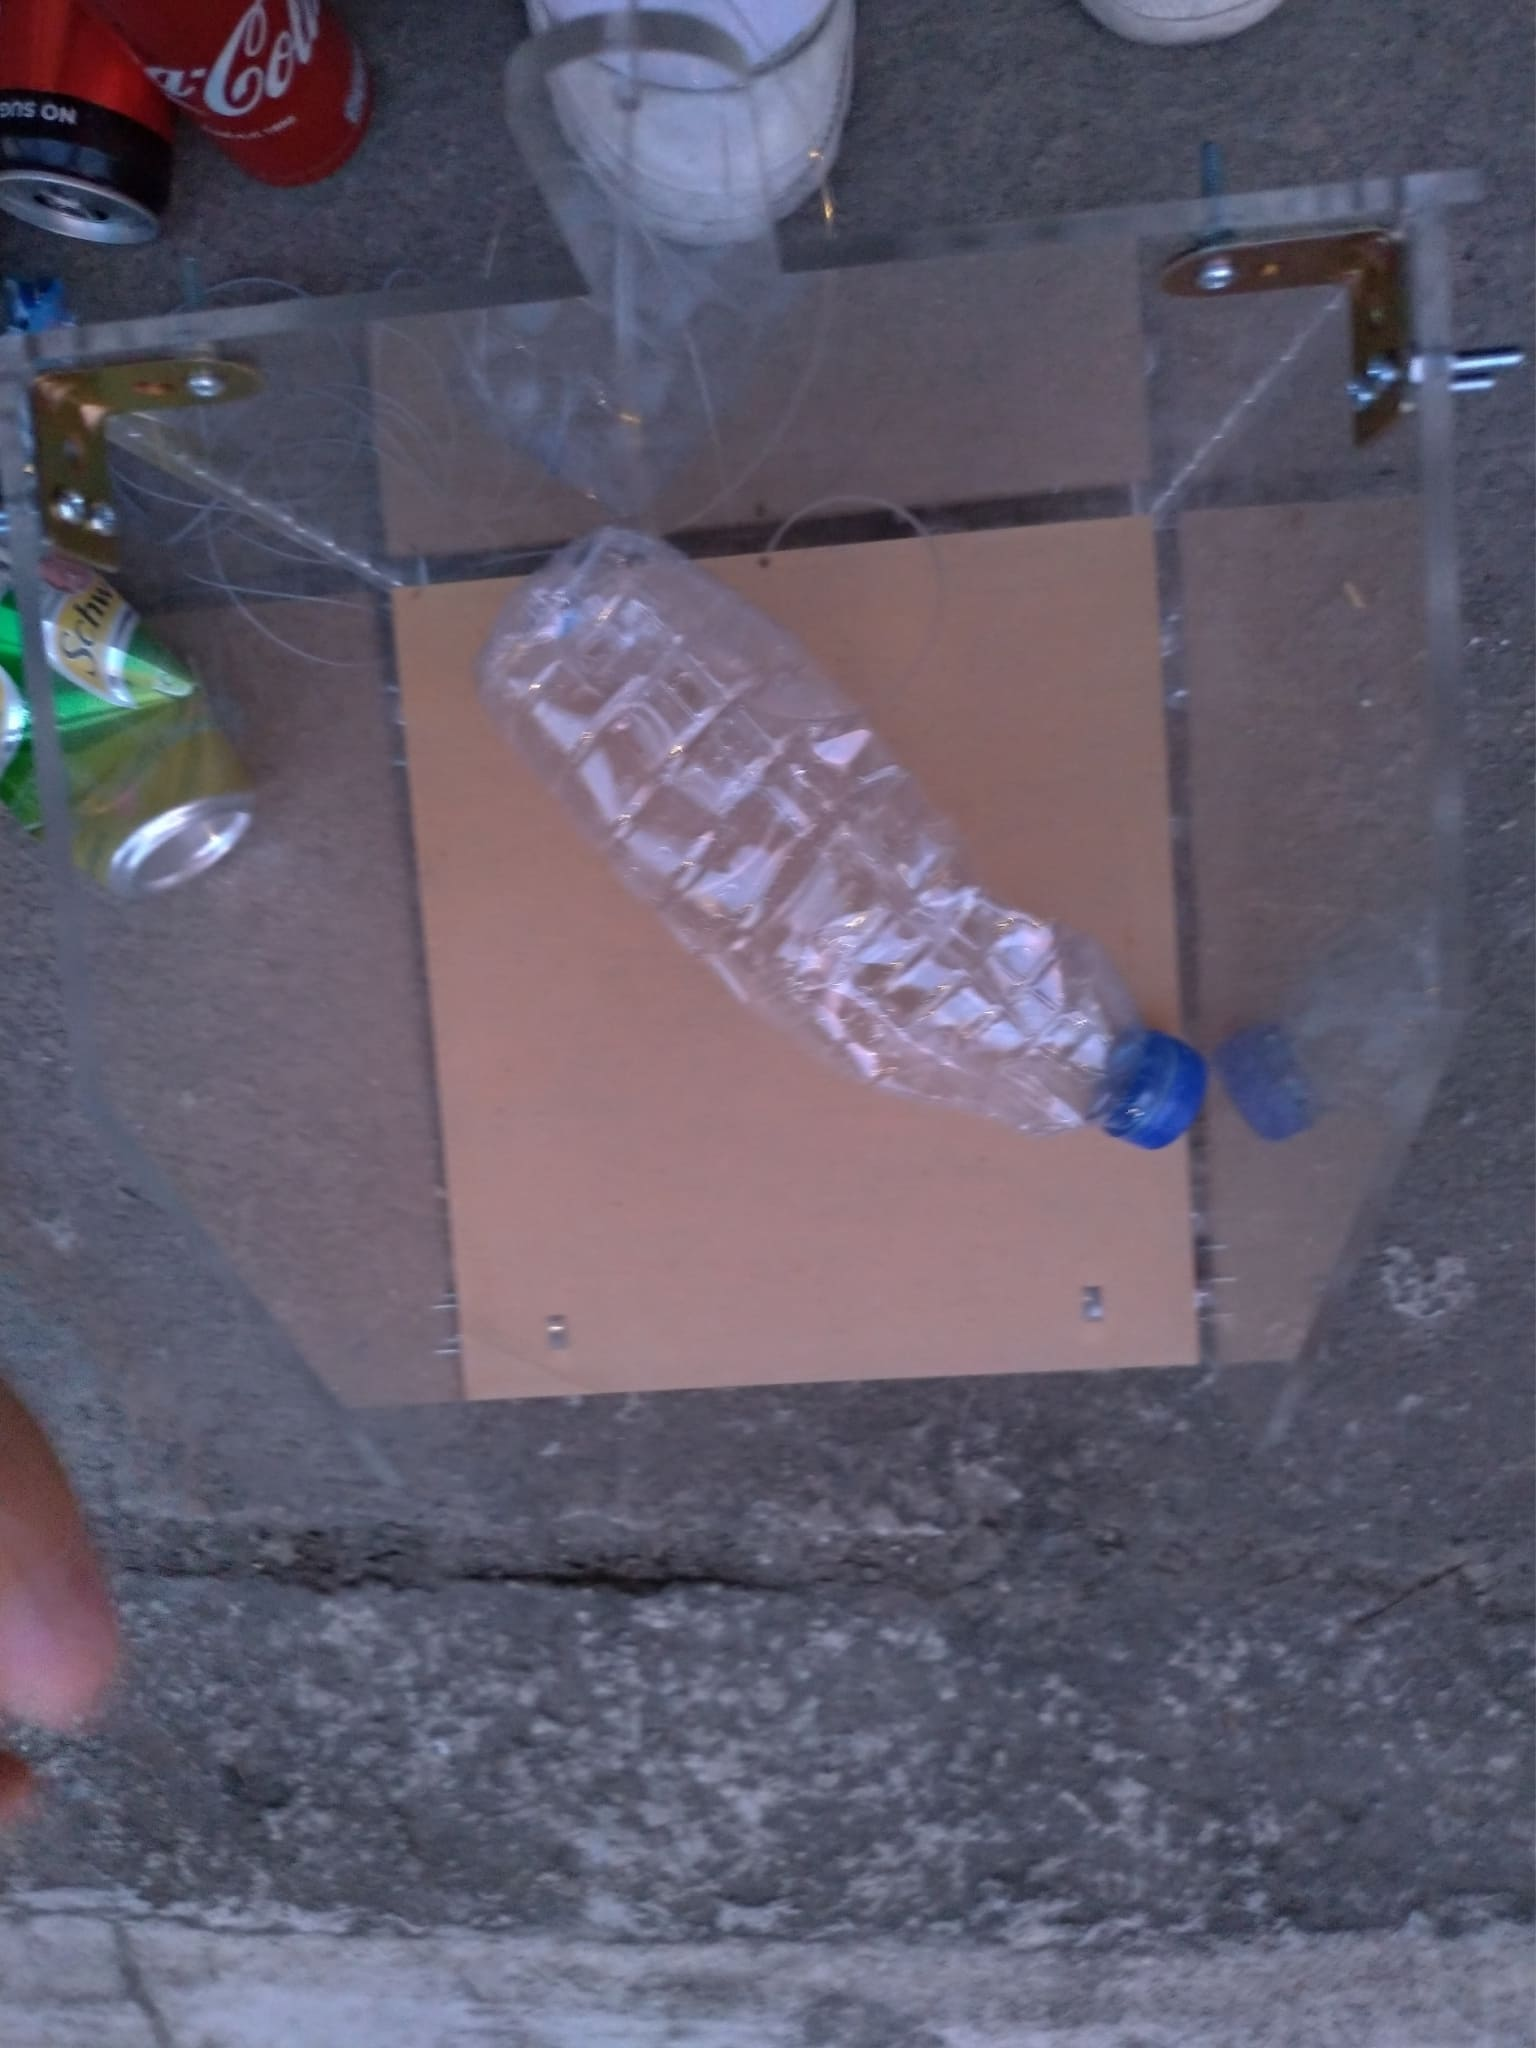AlCan: (2, 522, 257, 898), (97, 2, 379, 181), (3, 2, 169, 255)
PlasticBottle: (473, 518, 1210, 1158)
